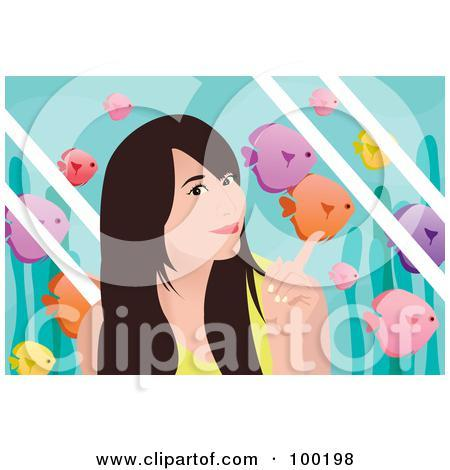person: (73, 112, 336, 380)
